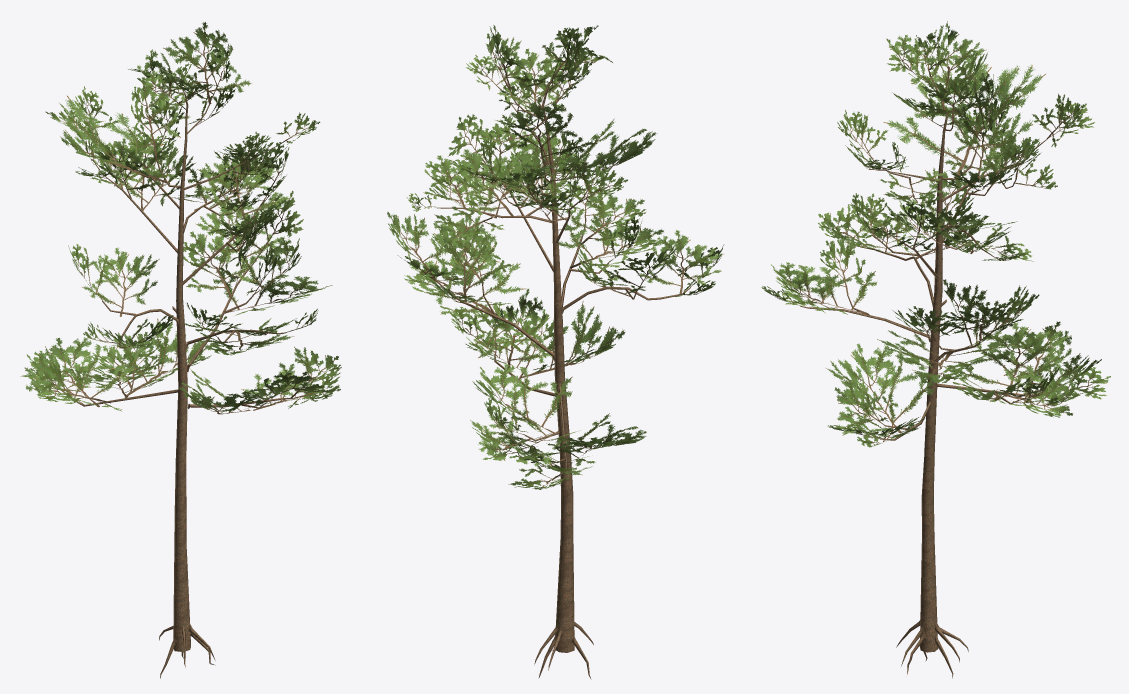
3 renders of one model, left to right at view 1: azimuth 30°, elevation 25°; view 2: azimuth 150°, elevation 25°; view 3: azimuth 270°, elevation 25°, orthographic. The views are drawn at different scales.
Parts seen in each view (by area): view 1: Pine_medium_2_LOD2_Bark_Mat_0; view 2: Pine_medium_2_LOD2_Bark_Mat_0; view 3: Pine_medium_2_LOD2_Bark_Mat_0.
Part boxes in pixels (bbox=[...]): Pine_medium_2_LOD2_Bark_Mat_0: bbox=[20, 22, 341, 678]; Pine_medium_2_LOD2_Bark_Mat_0: bbox=[387, 25, 724, 679]; Pine_medium_2_LOD2_Bark_Mat_0: bbox=[761, 21, 1110, 678].
Bounding box in the file's own units: 6.26 × 12.91 × 6.45.
